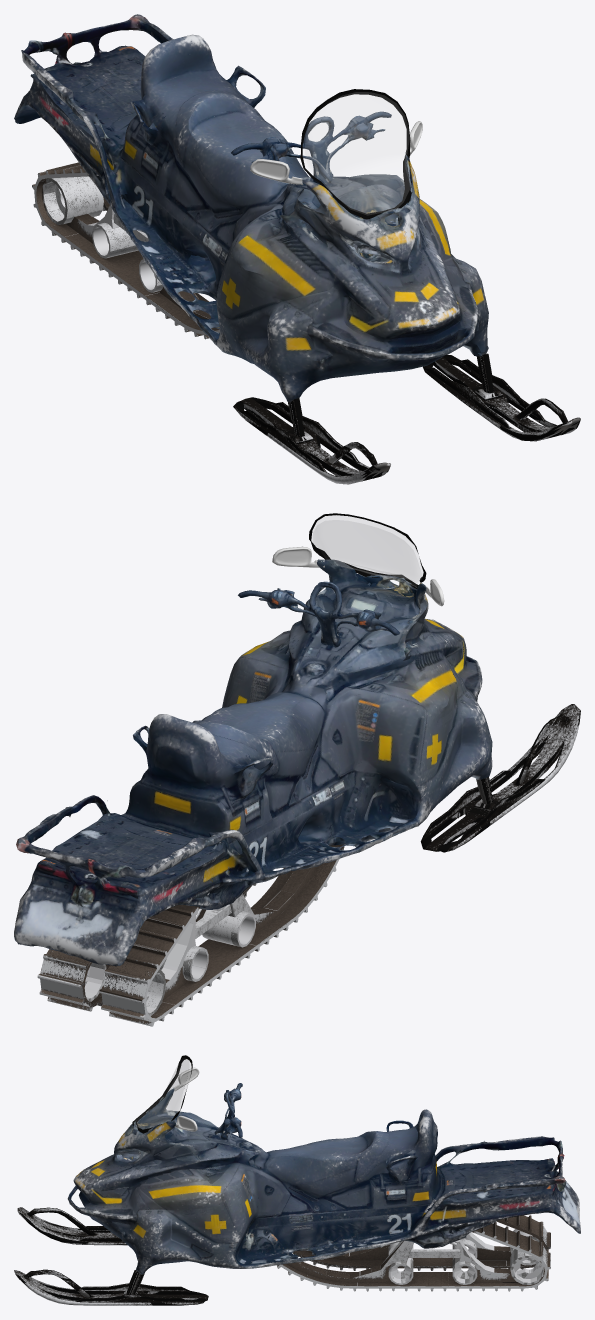
Rendered from SnowmobileFULL.fbx.
3 views of the same model, one above another, from view 1: azimuth 30°, elevation 25°; view 2: azimuth 150°, elevation 25°; view 3: azimuth 270°, elevation 25° (orthographic). The views are drawn at different scales.
Visible parts, largest first — view 1: Body, Windshield, Tracks, SteerL, SteerR, Handlebars, Mirrors; view 2: Body, Tracks, SteerR, Windshield, Handlebars, Mirrors; view 3: Body, Tracks, SteerL, SteerR, Windshield, Handlebars, Mirrors.
Part boxes in pixels (x1,y1,x2,y2): Body: (14,14,488,401); Windshield: (300,89,412,219); Tracks: (32,162,219,339); SteerL: (423,353,580,441); SteerR: (233,397,390,484); Handlebars: (231,111,391,185); Mirrors: (250,121,422,184); Body: (14,559,492,966); Tracks: (37,844,344,1026); SteerR: (420,704,580,852); Windshield: (309,513,426,588); Handlebars: (238,581,399,647); Mirrors: (272,546,444,606); Body: (67,1088,580,1274); Tracks: (277,1215,550,1291); SteerL: (14,1269,208,1305); SteerR: (17,1207,127,1245); Windshield: (132,1055,192,1133); Handlebars: (214,1083,242,1139); Mirrors: (173,1067,199,1131).
Size of the model in its own units: 107 by 143 by 348.
Materials: 8 (4 with a texture image).
